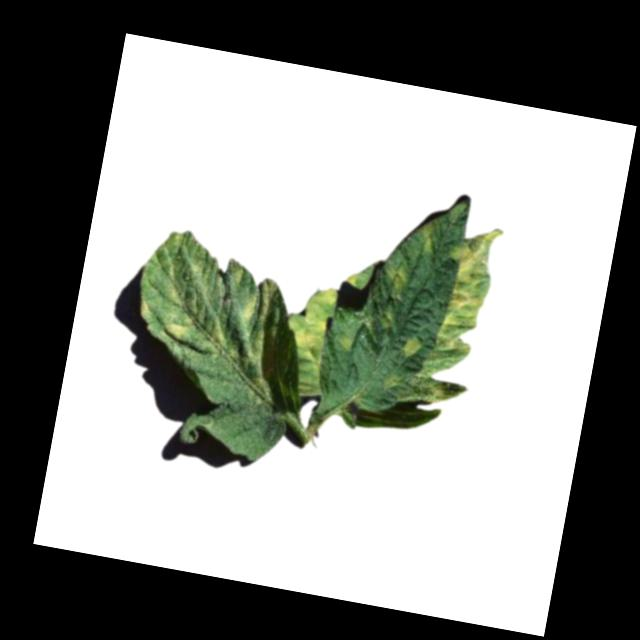Leaf_Mold: (432, 219, 502, 380), (280, 279, 338, 364), (380, 252, 415, 302), (157, 306, 194, 344), (235, 289, 260, 324), (397, 331, 423, 359), (136, 292, 157, 321)
